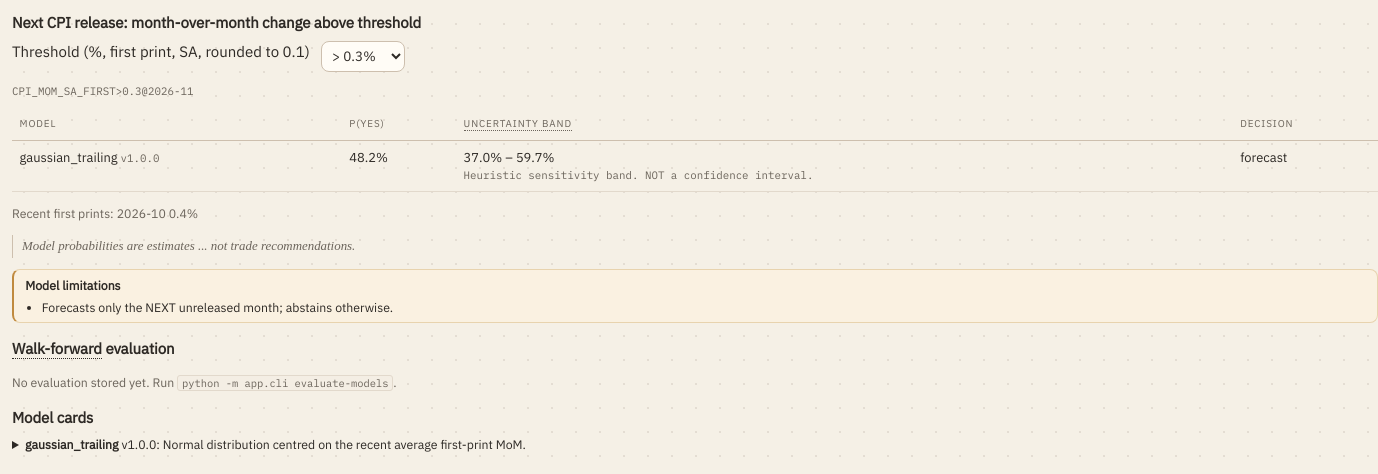
<ModelsPanel> › renders ABSTAIN with its reason codes
Check: the text "48.2%" is shown, box [342,140,456,192]
Select "> 9%" in the dropdown labelled "Threshold (%, first print, SA, rounded to 0.1)" at [363, 56], box [321,40,405,72]
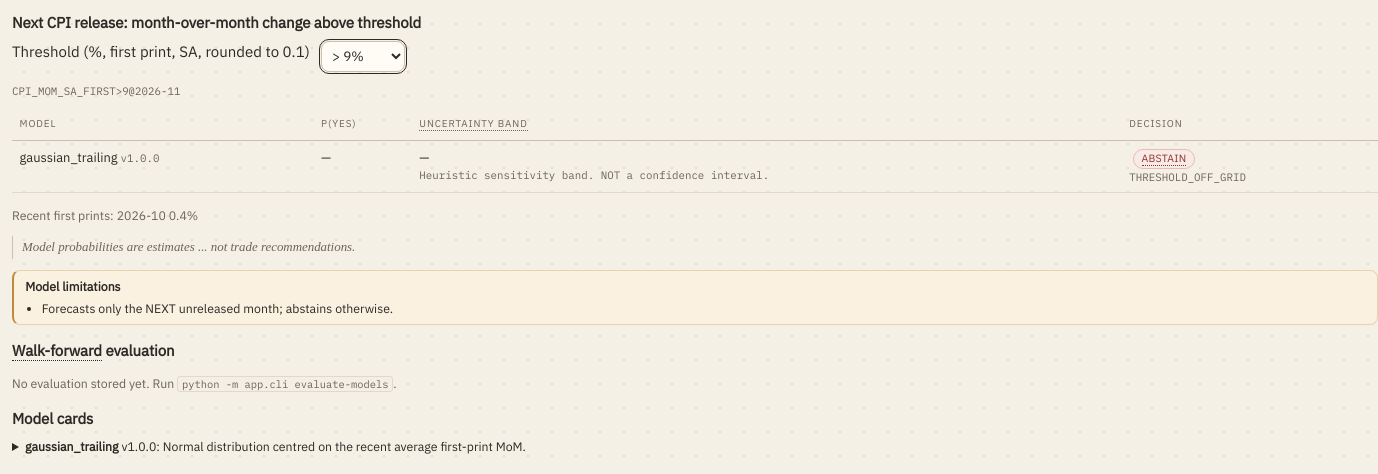
Check: the text "THRESHOLD_OFF_GRID" is shown, box [1129,170,1246,184]
Check: the button "ABSTAIN" is shown, box [1142,151,1186,166]
